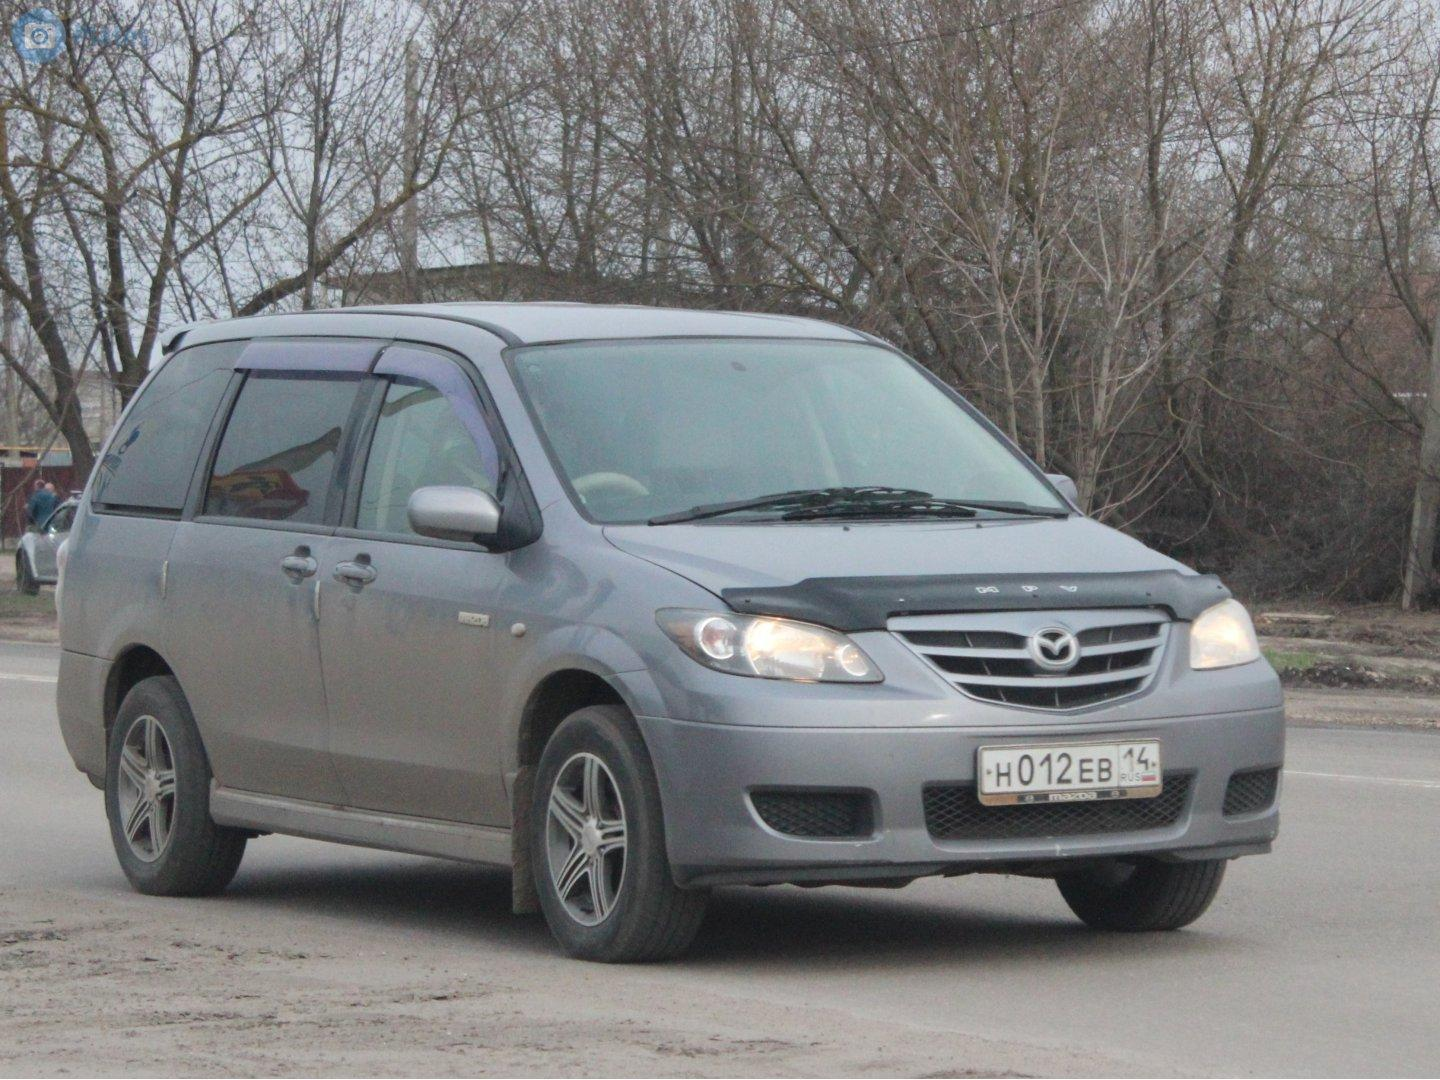license-plateSW: (983, 747, 1164, 793)
